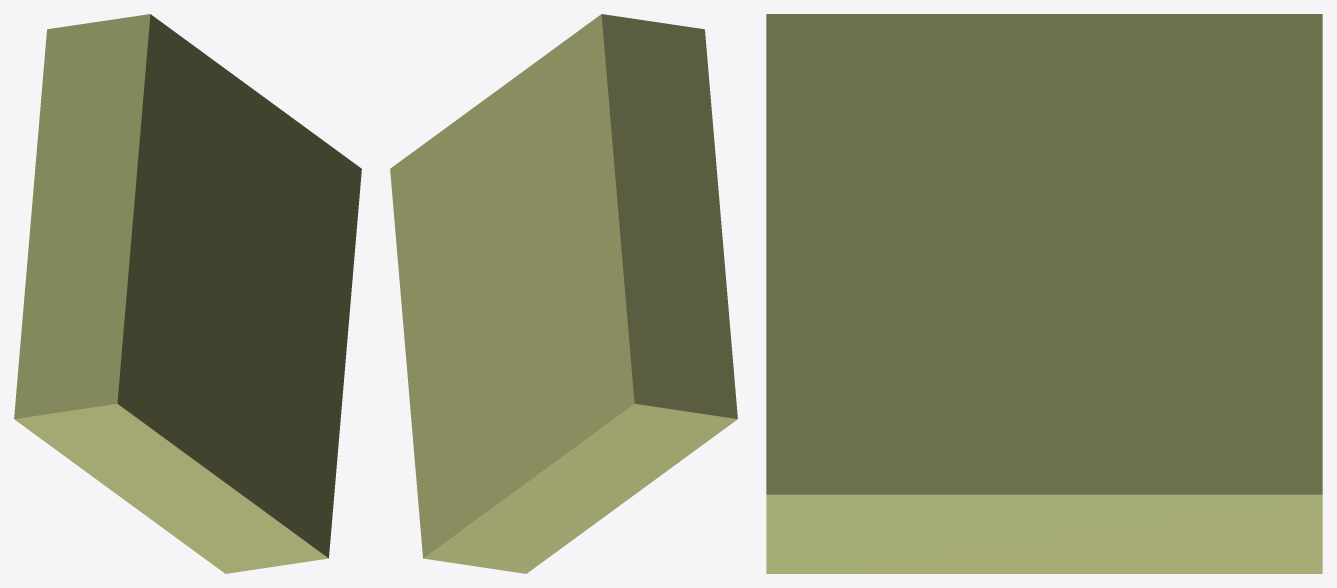
The picture shows the model from 3 angles, left to right: view 1: azimuth 30°, elevation 25°; view 2: azimuth 150°, elevation 25°; view 3: azimuth 270°, elevation 25°; orthographic projection. The views are drawn at different scales.
Visible parts, largest first — view 1: 0_2_0_1_1_1_1_0_0_3; view 2: 0_2_0_1_1_1_1_0_0_3; view 3: 0_2_0_1_1_1_1_0_0_3.
Boxes of the visible parts, x1,y1,x2,y2 form: 0_2_0_1_1_1_1_0_0_3: (14, 14, 361, 573); 0_2_0_1_1_1_1_0_0_3: (390, 14, 737, 573); 0_2_0_1_1_1_1_0_0_3: (766, 14, 1322, 573).
Bounding box in the file's own units: 2.23 × 6.13 × 6.
